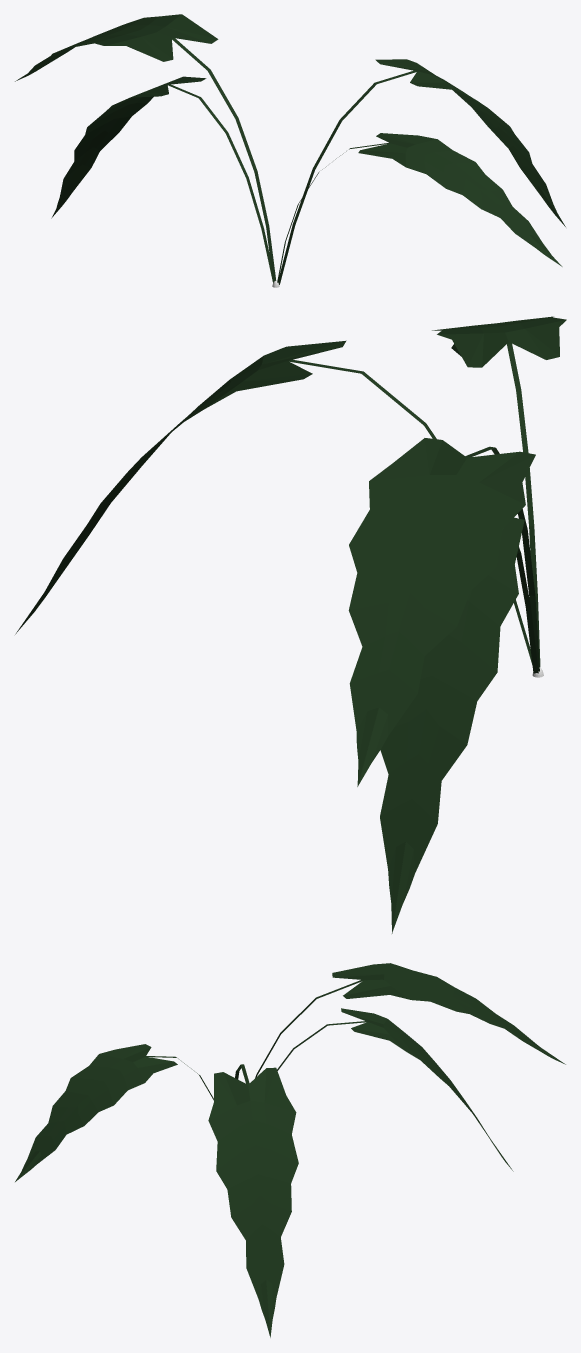
The model's file is Alocasia Micholitziana.fbx.
The picture shows the model from 3 angles, top to bottom: view 1: azimuth 30°, elevation 25°; view 2: azimuth 150°, elevation 25°; view 3: azimuth 270°, elevation 25°; orthographic projection. The views are drawn at different scales.
Visible parts, largest first — view 1: Alocasia Micholitziana.001|Alocasia Micholitziana|Dupli|1, Alocasia Micholitziana.001|Alocasia Micholitziana|Dupli|2, Alocasia Micholitziana.001|Alocasia Micholitziana|Dupli|3, Alocasia Micholitziana.001|Alocasia Micholitziana|Dupli|; view 2: Alocasia Micholitziana.001|Alocasia Micholitziana|Dupli|2, Alocasia Micholitziana.001|Alocasia Micholitziana|Dupli|3, Alocasia Micholitziana.001|Alocasia Micholitziana|Dupli|, Alocasia Micholitziana.001|Alocasia Micholitziana|Dupli|1; view 3: Alocasia Micholitziana.001|Alocasia Micholitziana|Dupli|, Alocasia Micholitziana.001|Alocasia Micholitziana|Dupli|1, Alocasia Micholitziana.001|Alocasia Micholitziana|Dupli|2, Alocasia Micholitziana.001|Alocasia Micholitziana|Dupli|3.
Boxes of the visible parts, left/top/right/bottom form: Alocasia Micholitziana.001|Alocasia Micholitziana|Dupli|1: left=277, top=133, right=562, bottom=282; Alocasia Micholitziana.001|Alocasia Micholitziana|Dupli|2: left=15, top=14, right=276, bottom=282; Alocasia Micholitziana.001|Alocasia Micholitziana|Dupli|3: left=51, top=76, right=273, bottom=282; Alocasia Micholitziana.001|Alocasia Micholitziana|Dupli|: left=278, top=59, right=565, bottom=284; Alocasia Micholitziana.001|Alocasia Micholitziana|Dupli|2: left=348, top=438, right=539, bottom=786; Alocasia Micholitziana.001|Alocasia Micholitziana|Dupli|3: left=380, top=517, right=538, bottom=933; Alocasia Micholitziana.001|Alocasia Micholitziana|Dupli|: left=15, top=340, right=532, bottom=664; Alocasia Micholitziana.001|Alocasia Micholitziana|Dupli|1: left=432, top=316, right=566, bottom=666; Alocasia Micholitziana.001|Alocasia Micholitziana|Dupli|: left=208, top=1064, right=298, bottom=1337; Alocasia Micholitziana.001|Alocasia Micholitziana|Dupli|1: left=15, top=1044, right=213, bottom=1181; Alocasia Micholitziana.001|Alocasia Micholitziana|Dupli|2: left=255, top=963, right=565, bottom=1077; Alocasia Micholitziana.001|Alocasia Micholitziana|Dupli|3: left=277, top=1008, right=513, bottom=1171.
Bounding box in the file's own units: 792 × 444 × 1059.
